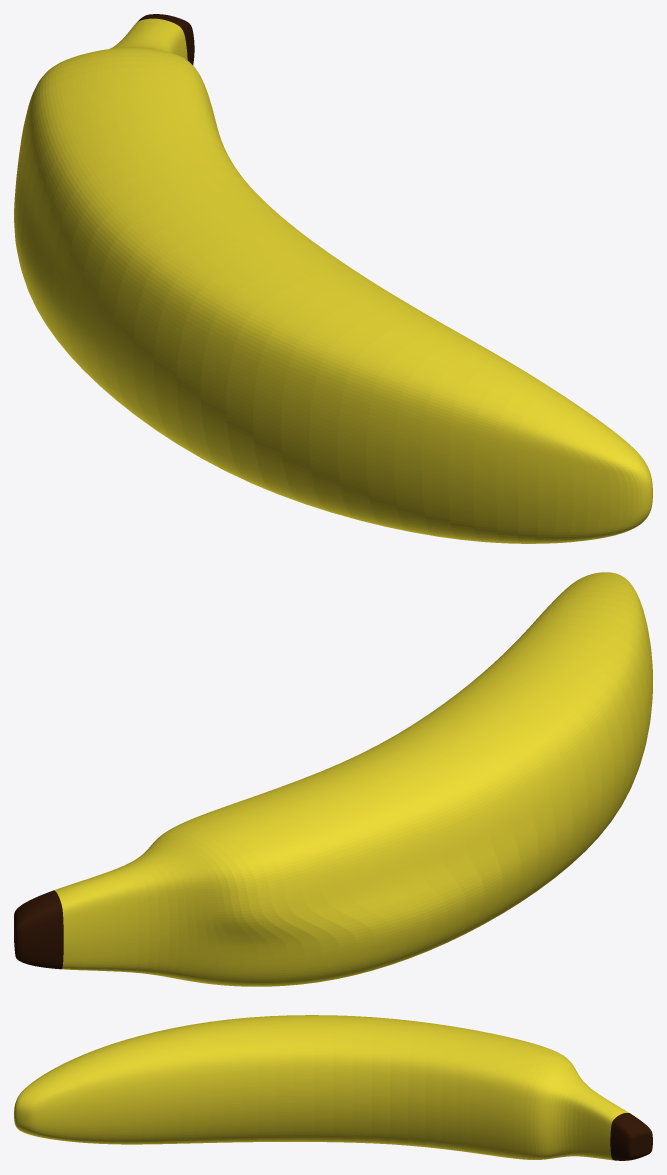
Rendered from banana.fbx.
The picture shows the model from 3 angles, top to bottom: view 1: azimuth 30°, elevation 25°; view 2: azimuth 150°, elevation 25°; view 3: azimuth 270°, elevation 25°; orthographic projection. The views are drawn at different scales.
Parts seen in each view (by area): view 1: banana; view 2: banana; view 3: banana.
Boxes of the visible parts, x1,y1,x2,y2 form: banana: (14, 14, 652, 543); banana: (14, 572, 652, 986); banana: (14, 1015, 652, 1160).
Size of the model in its own units: 152 by 82.95 by 436.
